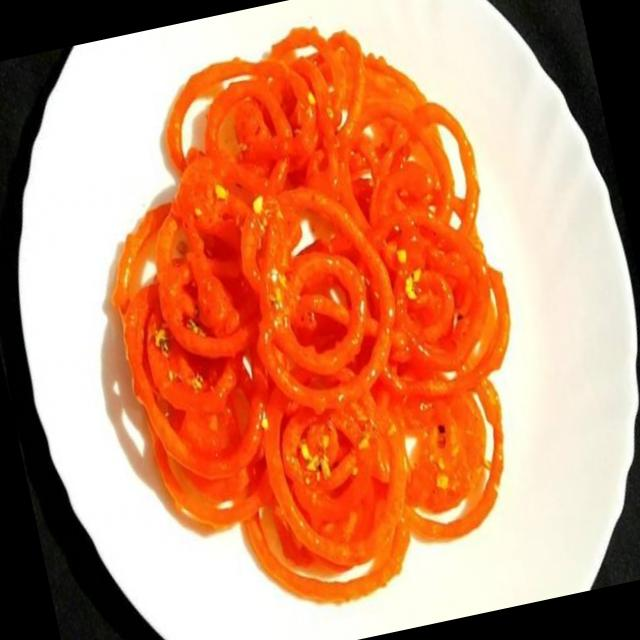jalebi: (34, 0, 565, 640)
